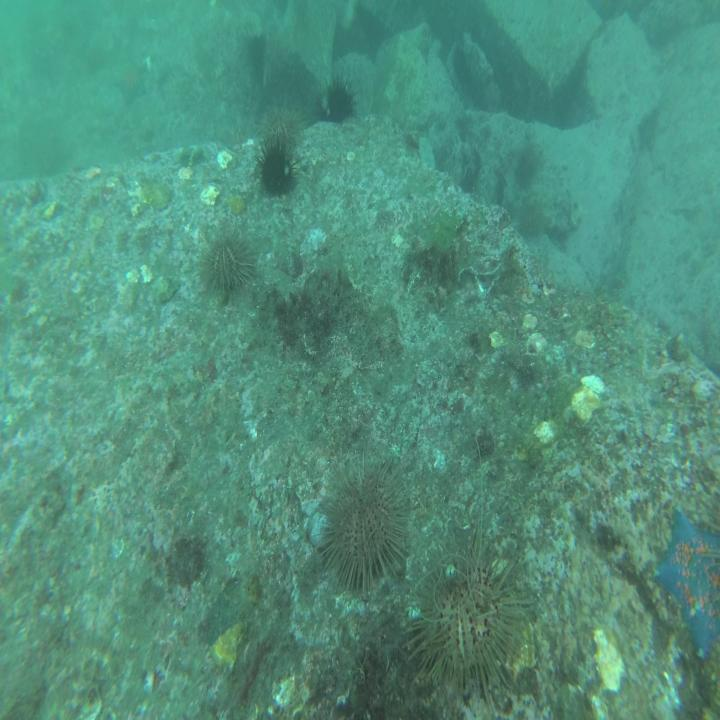echinus: (415, 532, 523, 690), (318, 477, 406, 584), (203, 229, 254, 293), (256, 105, 307, 150), (256, 137, 295, 194), (323, 75, 355, 125), (515, 204, 540, 238), (514, 153, 538, 186)
starfish: (653, 504, 720, 656)
